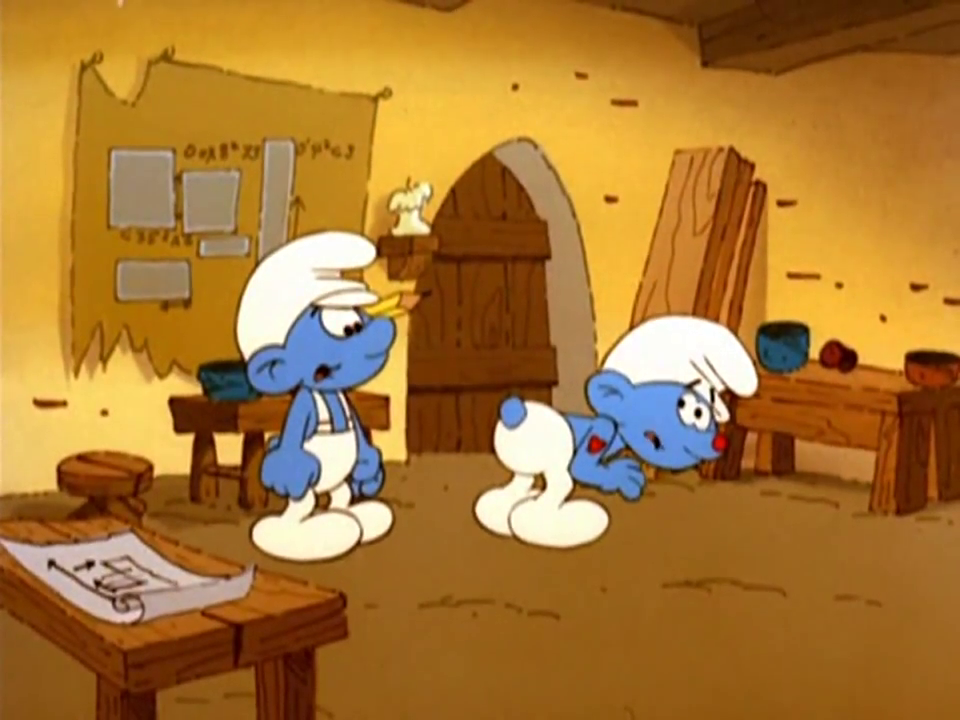smurf: (473, 310, 758, 549), (236, 226, 399, 562)
